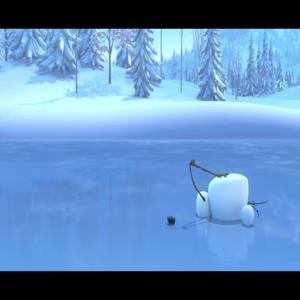olaf: (176, 145, 269, 237)
